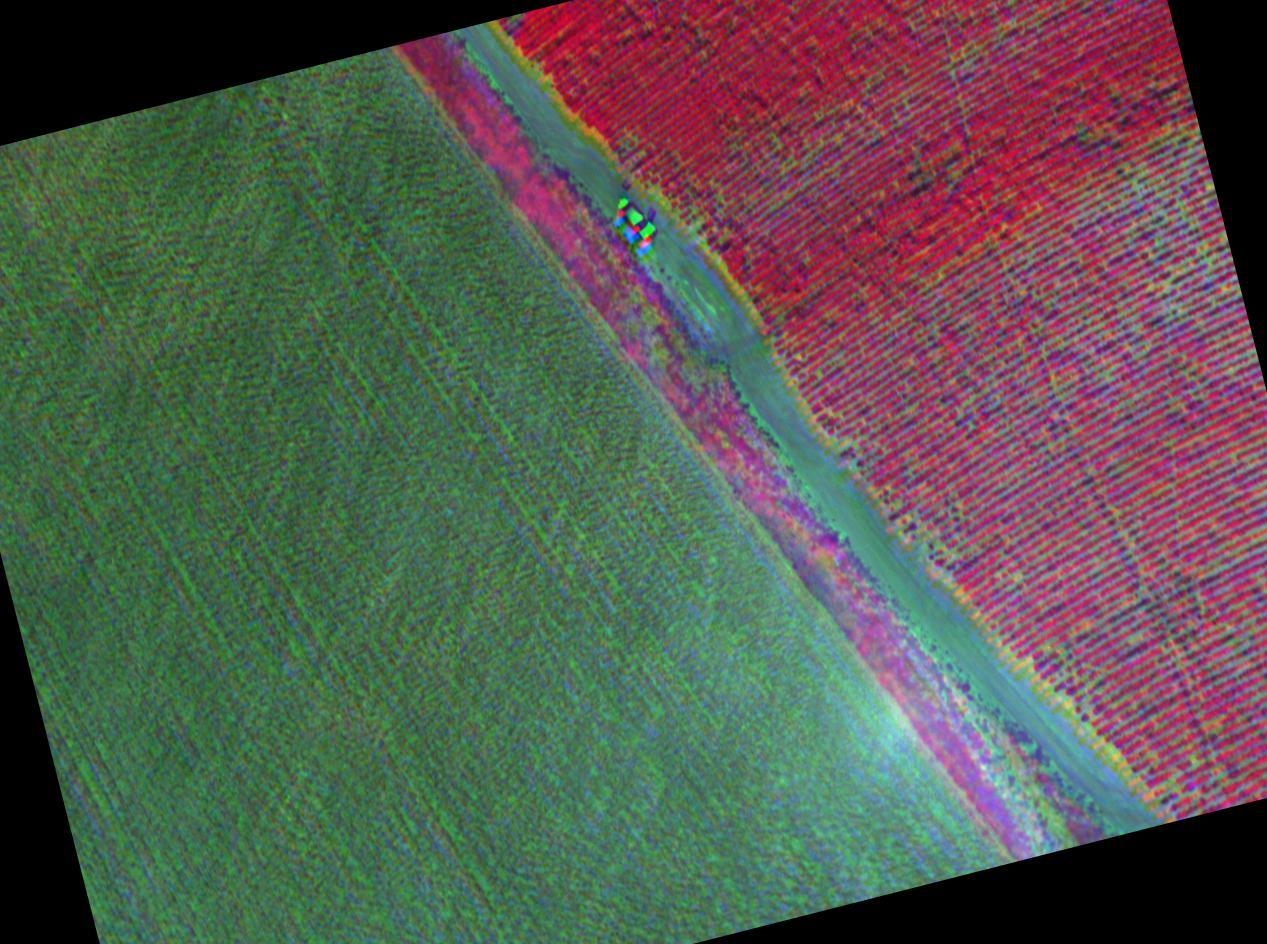dc: (1108, 150, 1227, 246), (893, 475, 982, 571), (1138, 255, 1245, 334), (1018, 633, 1108, 719), (1036, 330, 1116, 387)
